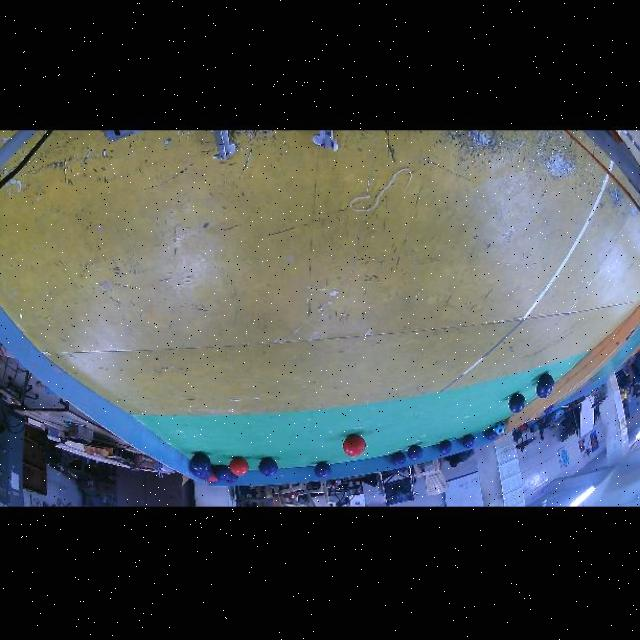P: (536, 374, 555, 395), (259, 458, 278, 478), (191, 454, 211, 472), (509, 394, 526, 414), (189, 464, 208, 479), (214, 466, 231, 482), (314, 463, 331, 479), (407, 446, 423, 462), (198, 467, 213, 482), (391, 453, 406, 467), (438, 441, 453, 455), (461, 434, 475, 449), (483, 428, 497, 442), (225, 473, 238, 485), (536, 392, 550, 399)
R: (343, 436, 365, 458), (229, 458, 249, 476), (207, 474, 217, 483)
